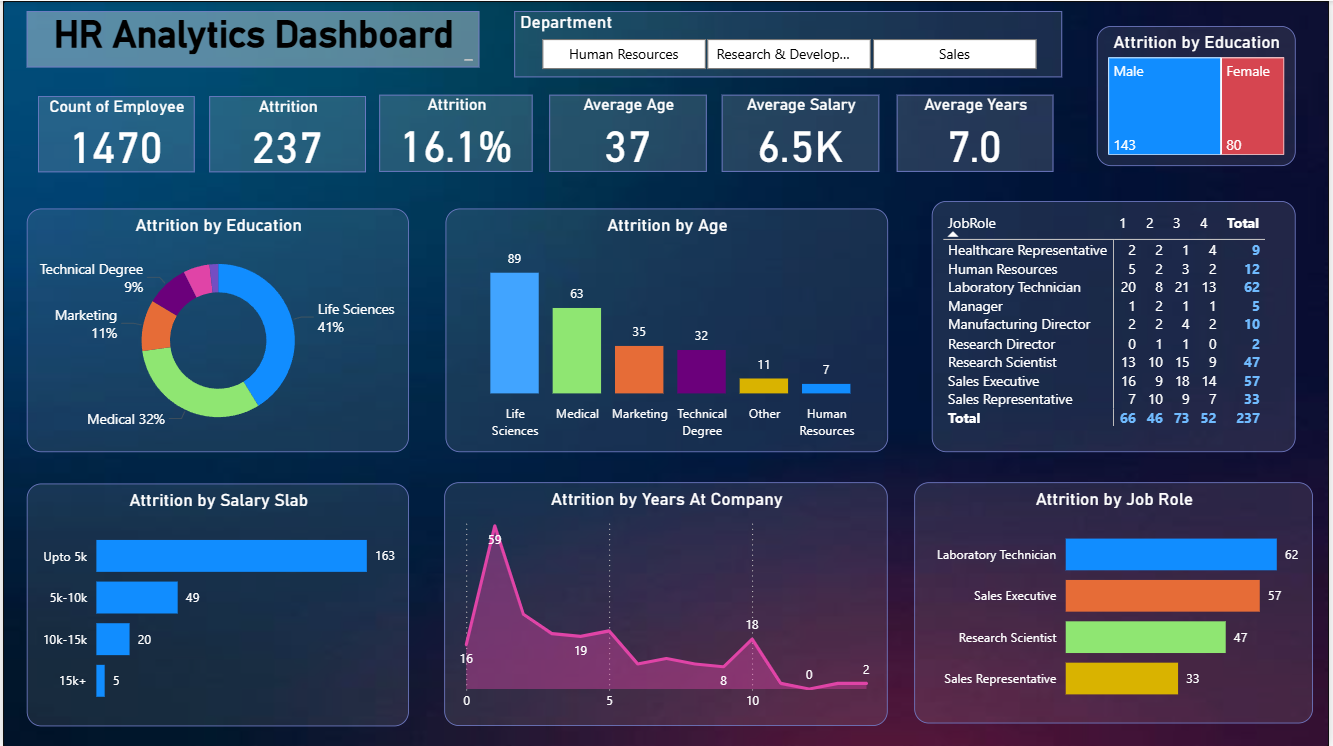

Layout of this report page (visuals, bound fields, positions):
{"tool":"powerbi","page":{"name":"Page 1","canvas":[1280,720],"ordinal":0},"visuals":[{"type":"card","title":"Count of Employee","fields":{"Values":["CountNonNull(HR_Analytics.EmpID)"]},"box":[33.8,91.7,150.8,73.6],"z":0},{"type":"card","title":"Attrition","fields":{"Values":["Sum(HR_Analytics.AttritionCount)"]},"box":[199.1,91.7,150.8,73.6],"z":1000},{"type":"card","title":"Average Age","fields":{"Values":["Avg(HR_Analytics.Age)"]},"box":[527.2,90.5,152,74.8],"z":2000},{"type":"card","title":"Average Salary","fields":{"Values":["Avg(HR_Analytics.MonthlyIncome)"]},"box":[693.7,90.5,152,74.8],"z":3000},{"type":"card","title":"Average Years","fields":{"Values":["Avg(HR_Analytics.YearsAtCompany)"]},"box":[862.6,90.5,150.8,74.8],"z":4000},{"type":"donutChart","title":"Attrition by Education","fields":{"Category":["HR_Analytics.EducationField"],"Y":["CountNonNull(HR_Analytics.AttritionCount)"]},"box":[22.9,200.3,369.2,235.3],"z":5000},{"type":"columnChart","title":"Attrition by Age","fields":{"Category":["HR_Analytics.EducationField"],"Y":["Sum(HR_Analytics.AttritionCount)"]},"box":[427.1,200.3,427.1,235.3],"z":6000},{"type":"pivotTable","fields":{"Rows":["HR_Analytics.JobRole"],"Columns":["HR_Analytics.JobSatisfaction"],"Values":["Sum(HR_Analytics.AttritionCount)"]},"box":[896.4,193,351.1,242.5],"z":7000},{"type":"barChart","title":"Attrition by Salary Slab","fields":{"Category":["HR_Analytics.SalarySlab"],"Y":["Sum(HR_Analytics.AttritionCount)"]},"box":[22.9,465.7,369.2,234],"z":8000},{"type":"barChart","title":"Attrition by Job Role","fields":{"Y":["Sum(HR_Analytics.AttritionCount)"],"Category":["HR_Analytics.JobRole"]},"box":[879.5,464.5,384.9,232.8],"z":9000},{"type":"areaChart","title":"Attrition by Years At Company","fields":{"Category":["HR_Analytics.YearsAtCompany"],"Y":["Sum(HR_Analytics.AttritionCount)"]},"box":[425.9,464.5,428.3,235.3],"z":10000},{"type":"treemap","title":"Attrition by Education","fields":{"Group":["HR_Analytics.Gender"],"Values":["Sum(HR_Analytics.AttritionCount)"]},"box":[1055.6,24.1,191.8,135.1],"z":11000},{"type":"textbox","title":"HR Analytics Dashboard","box":[22.9,9.7,436.7,54.3],"z":12000},{"type":"slicer","title":"Department","fields":{"Values":["HR_Analytics.Department"]},"box":[493.4,9.7,528.4,63.9],"z":13000},{"type":"card","title":"Attrition","fields":{"Values":["HR_Analytics.AttritionRate"]},"box":[363.1,90.5,148.4,74.8],"z":14000}]}

Visuals, with their boxes in screenshot pixels (x1, y1, x2, y2), scaled from the page's 1280x720 canvas onto the 1333x746 screenshot:
"Count of Employee" card: [left=35, top=95, right=192, bottom=171]
"Attrition" card: [left=207, top=95, right=364, bottom=171]
"Average Age" card: [left=549, top=94, right=707, bottom=171]
"Average Salary" card: [left=722, top=94, right=881, bottom=171]
"Average Years" card: [left=898, top=94, right=1055, bottom=171]
"Attrition by Education" donutChart: [left=24, top=208, right=408, bottom=451]
"Attrition by Age" columnChart: [left=445, top=208, right=890, bottom=451]
pivotTable - HR_Analytics.JobRole x HR_Analytics.JobSatisfaction: [left=934, top=200, right=1299, bottom=451]
"Attrition by Salary Slab" barChart: [left=24, top=483, right=408, bottom=725]
"Attrition by Job Role" barChart: [left=916, top=481, right=1317, bottom=722]
"Attrition by Years At Company" areaChart: [left=444, top=481, right=890, bottom=725]
"Attrition by Education" treemap: [left=1099, top=25, right=1299, bottom=165]
"HR Analytics Dashboard" textbox: [left=24, top=10, right=479, bottom=66]
"Department" slicer: [left=514, top=10, right=1064, bottom=76]
"Attrition" card: [left=378, top=94, right=533, bottom=171]
